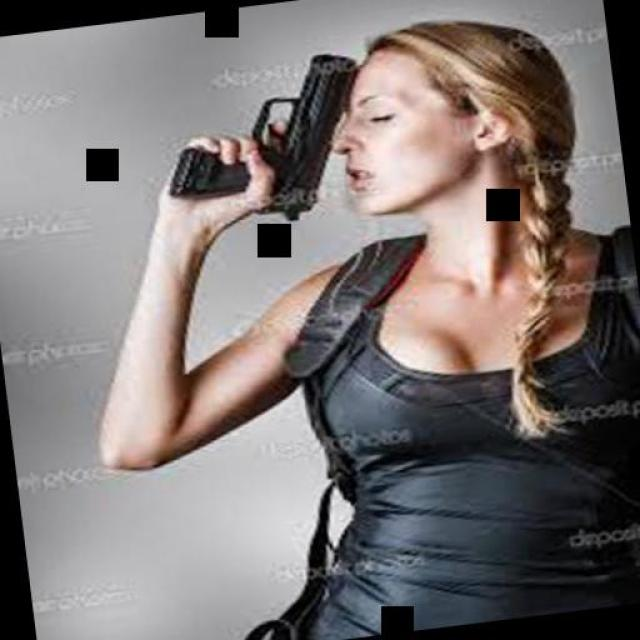gun: (151, 48, 369, 230)
